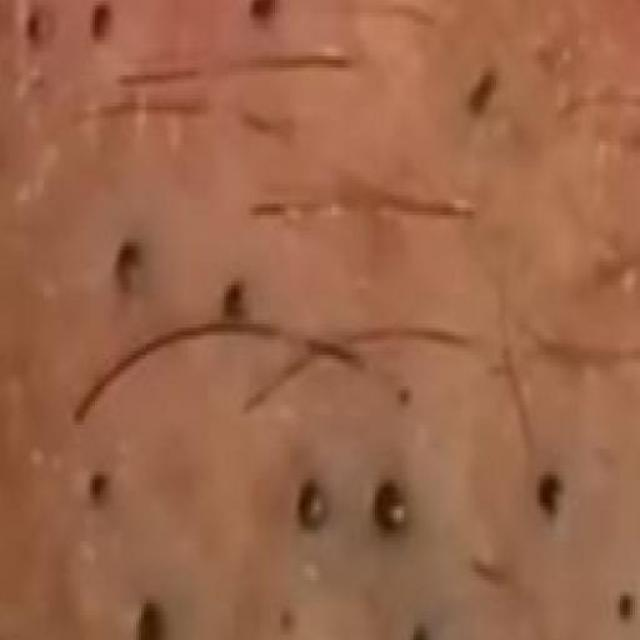blackhead: (372, 481, 410, 534), (296, 479, 331, 534), (115, 241, 144, 294), (135, 601, 167, 640), (537, 472, 566, 515), (90, 5, 112, 43), (223, 283, 246, 319), (23, 12, 51, 41), (248, 0, 274, 20), (616, 594, 636, 618), (89, 474, 108, 499), (475, 76, 498, 95), (396, 386, 414, 409), (278, 608, 296, 631), (469, 92, 488, 113), (411, 622, 431, 640)
